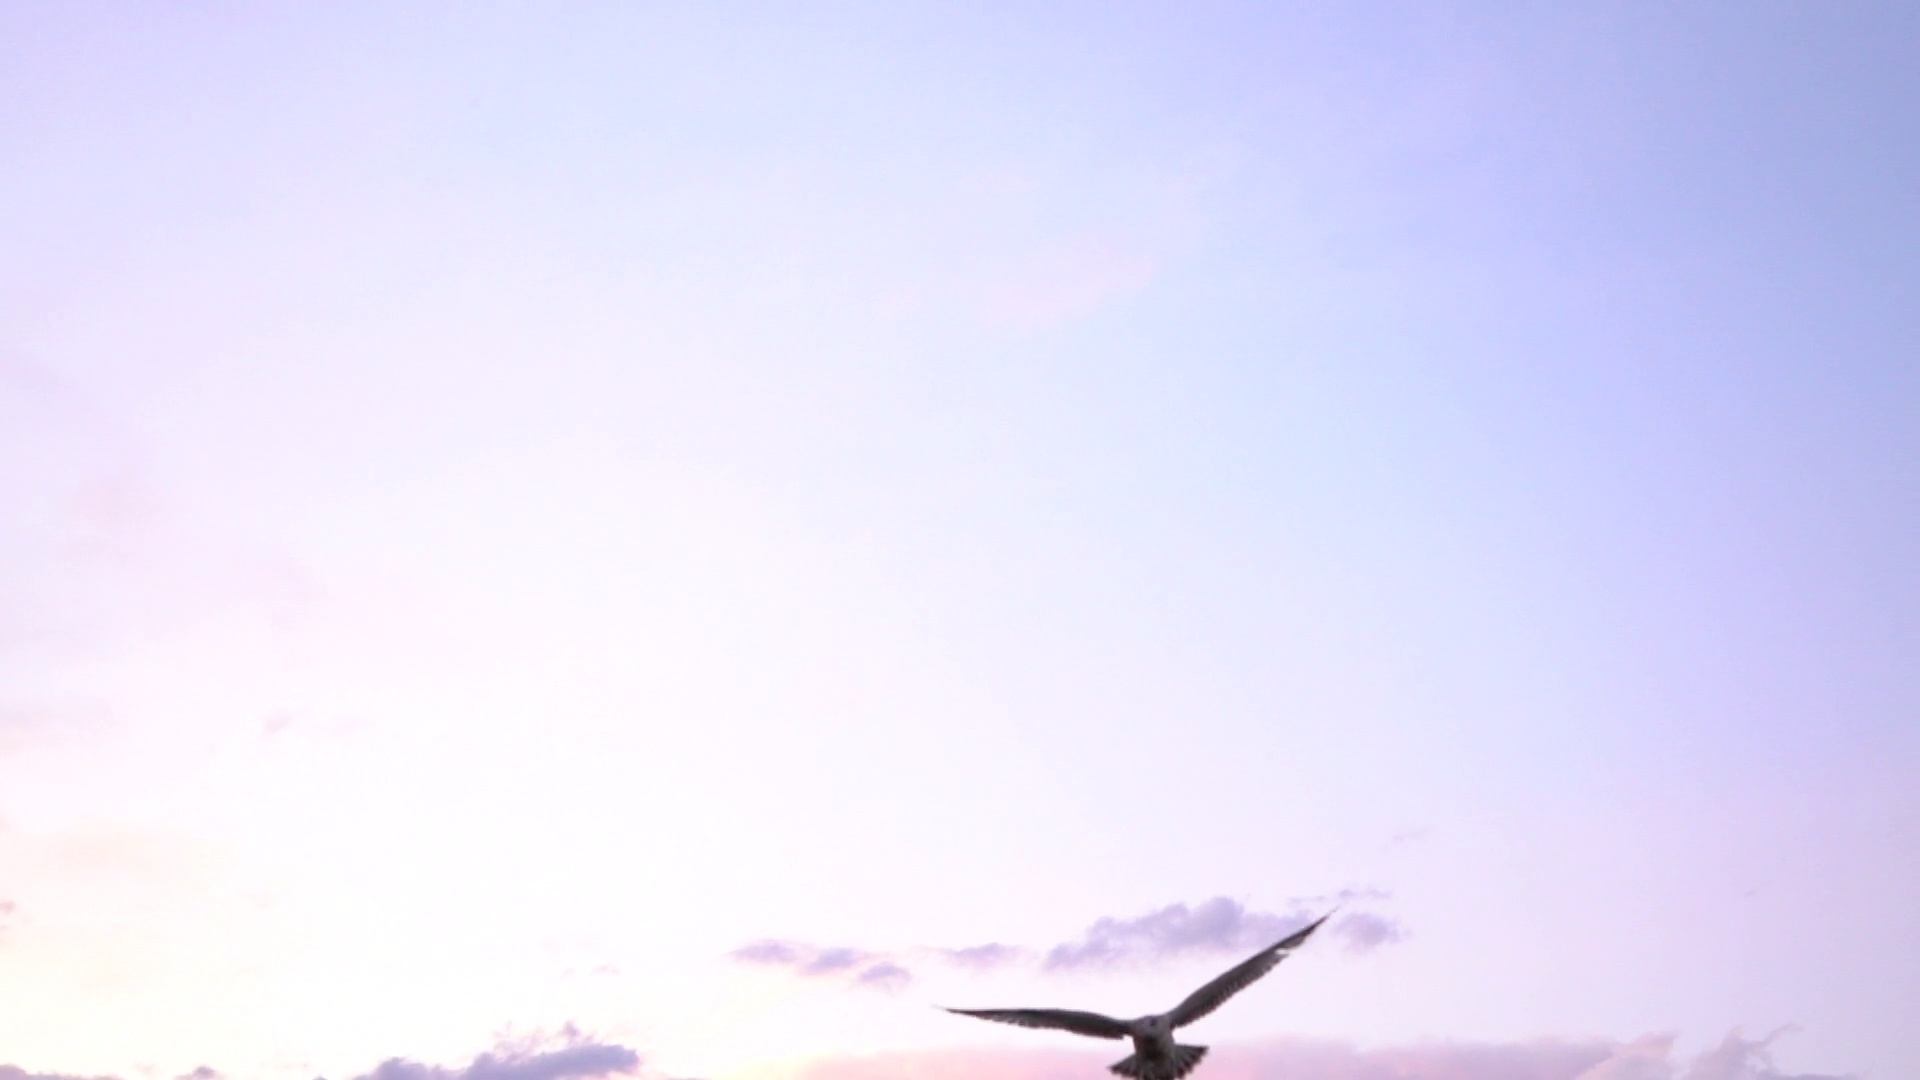bird: (945, 909, 1324, 1079)
